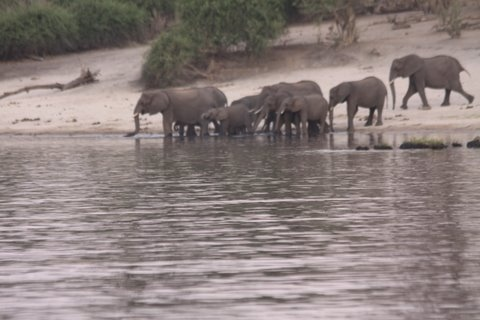elephant: (176, 113, 278, 171), (286, 107, 358, 166), (358, 102, 418, 155), (431, 82, 480, 138), (302, 117, 355, 162), (225, 121, 276, 154)
